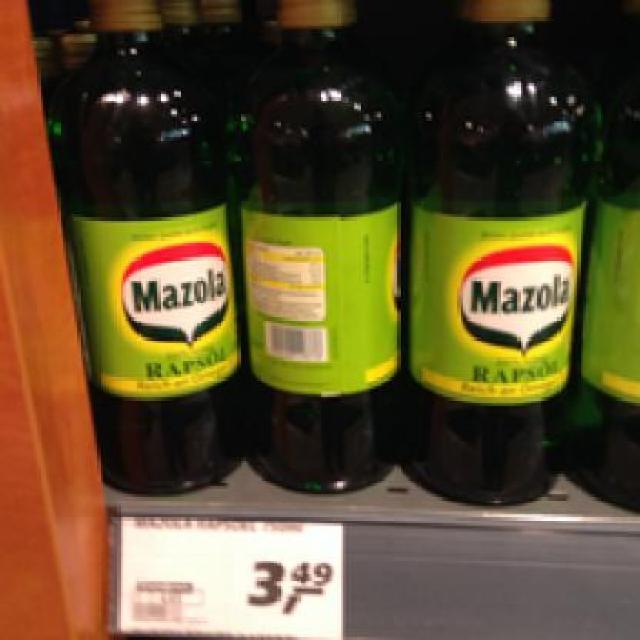Oil: (46, 0, 243, 497), (397, 0, 586, 509), (220, 0, 406, 489)
